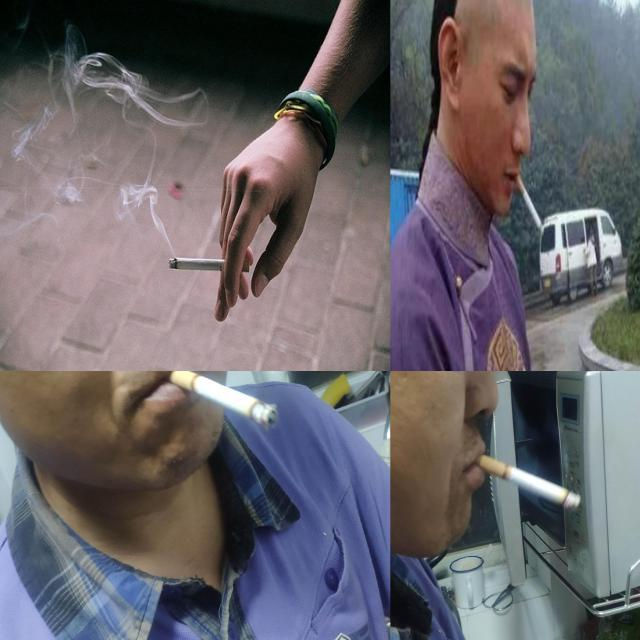smoke: (165, 371, 280, 432), (476, 451, 582, 514), (516, 172, 546, 236), (168, 256, 252, 275)
